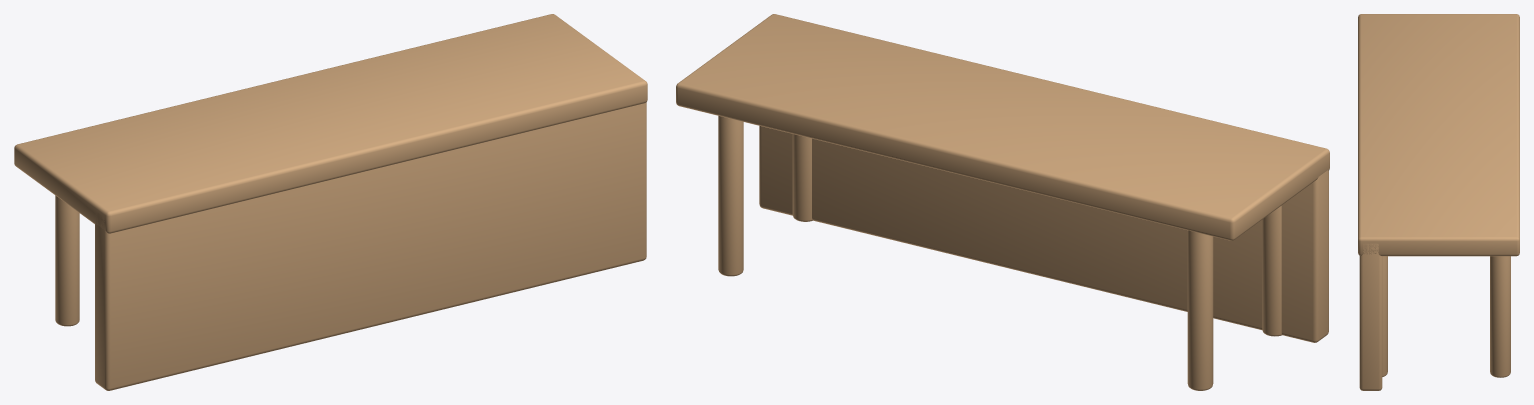
The model's file is reception-desk.glb.
3 views of the same model, side by side, from view 1: azimuth 30°, elevation 25°; view 2: azimuth 150°, elevation 25°; view 3: azimuth 270°, elevation 25° (orthographic). The views are drawn at different scales.
Parts seen in each view (by area): view 1: front, top.007, leg-2.005; view 2: top.007, front, leg-2.005, leg-4.005, leg-1.005, leg-3.005; view 3: top.007, front, leg-4.005, leg-3.005.
Boxes of the visible parts, box(x1,y1,x2,y2) form: front: box(95, 102, 646, 390); top.007: box(14, 14, 647, 233); leg-2.005: box(55, 195, 79, 326); top.007: box(676, 14, 1329, 240); front: box(759, 126, 1328, 342); leg-2.005: box(1187, 230, 1213, 390); leg-4.005: box(718, 116, 743, 276); leg-1.005: box(1262, 205, 1281, 336); leg-3.005: box(792, 134, 812, 221); top.007: box(1358, 14, 1519, 256); front: box(1359, 243, 1382, 390); leg-4.005: box(1490, 256, 1510, 377); leg-3.005: box(1382, 256, 1387, 376).
Bounding box in the file's own units: 2.8 × 0.891 × 0.85.
